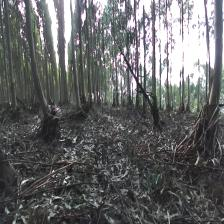trunk: (25, 4, 51, 116), (204, 3, 224, 123), (4, 2, 17, 108), (69, 3, 80, 108)
